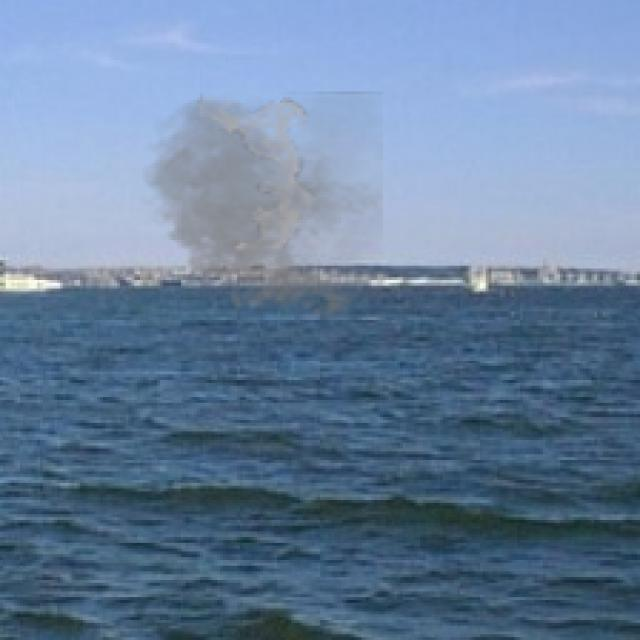Smoke: (131, 91, 383, 323)
